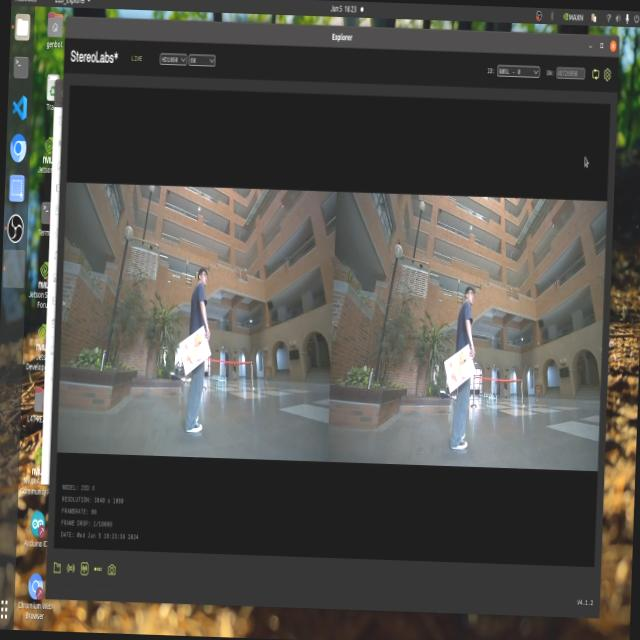red: (180, 332, 213, 368), (449, 349, 472, 384)
